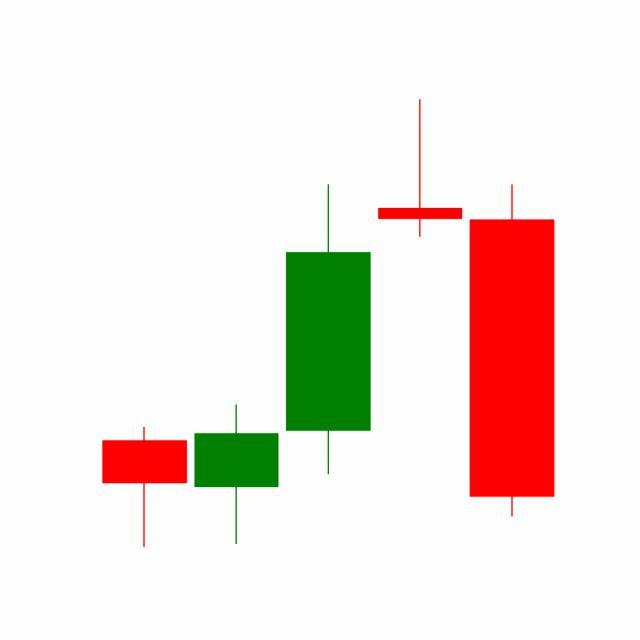Evening Star: (280, 99, 555, 522)
